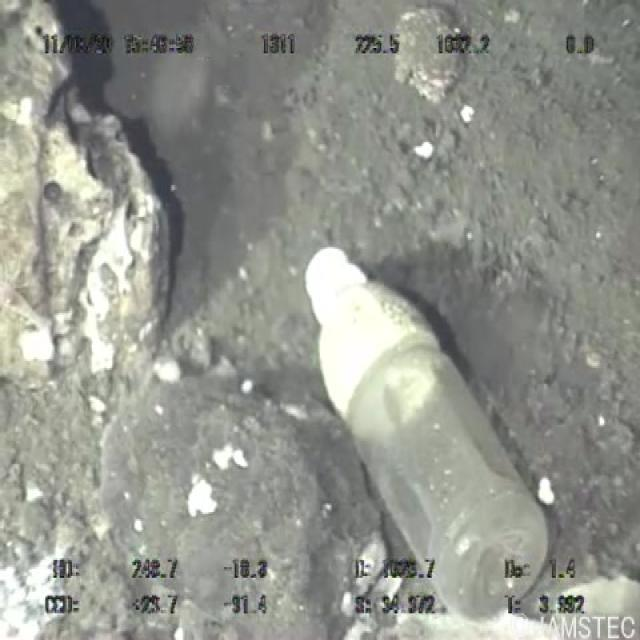plastic: (298, 236, 550, 626)
